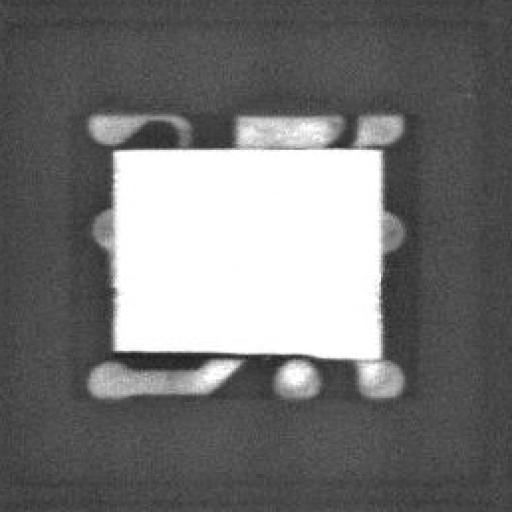DIE_BROKEN: (111, 347, 349, 358)
